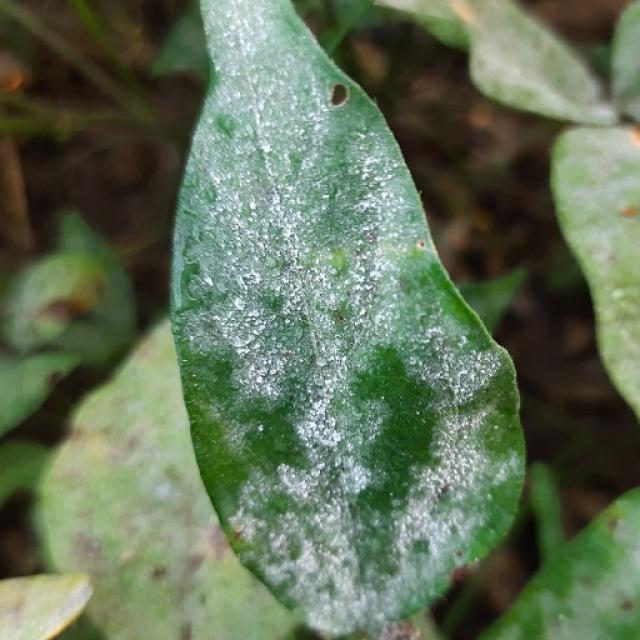Blackgram: (171, 0, 524, 634)
Powdery_Mildew: (230, 165, 348, 294), (390, 394, 495, 530), (265, 440, 373, 541), (203, 2, 311, 96), (412, 319, 504, 419), (223, 292, 314, 388), (329, 140, 404, 220), (286, 398, 345, 451), (192, 390, 238, 439), (260, 419, 302, 461), (302, 602, 355, 635), (229, 263, 270, 301), (255, 134, 284, 169), (280, 144, 305, 180), (174, 290, 207, 316), (227, 323, 258, 349), (424, 323, 450, 348), (180, 252, 202, 278), (216, 116, 236, 139), (226, 514, 245, 536), (287, 541, 304, 561), (202, 186, 217, 204), (265, 255, 280, 270), (202, 275, 215, 288), (249, 200, 259, 211), (256, 424, 264, 433), (181, 357, 189, 364), (191, 373, 198, 379)
